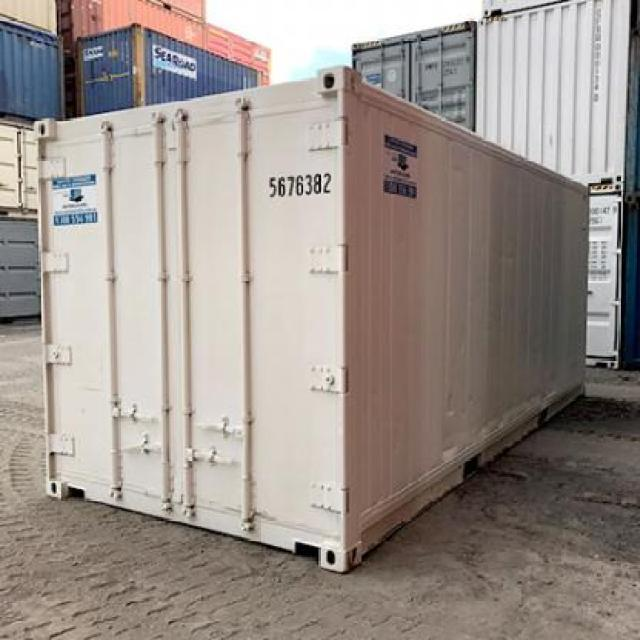container_number: (265, 167, 328, 206)
